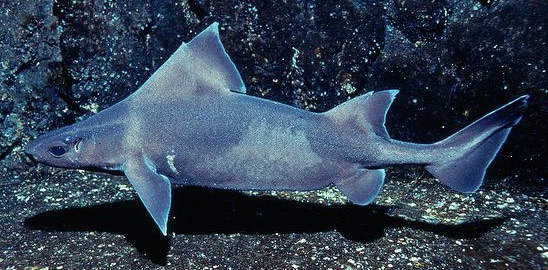shark: (19, 16, 532, 250)
